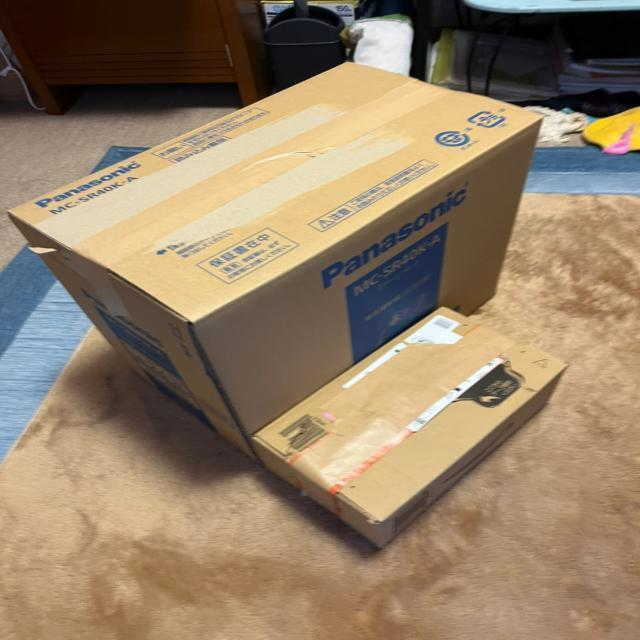box: (3, 56, 549, 467), (242, 304, 574, 549)
